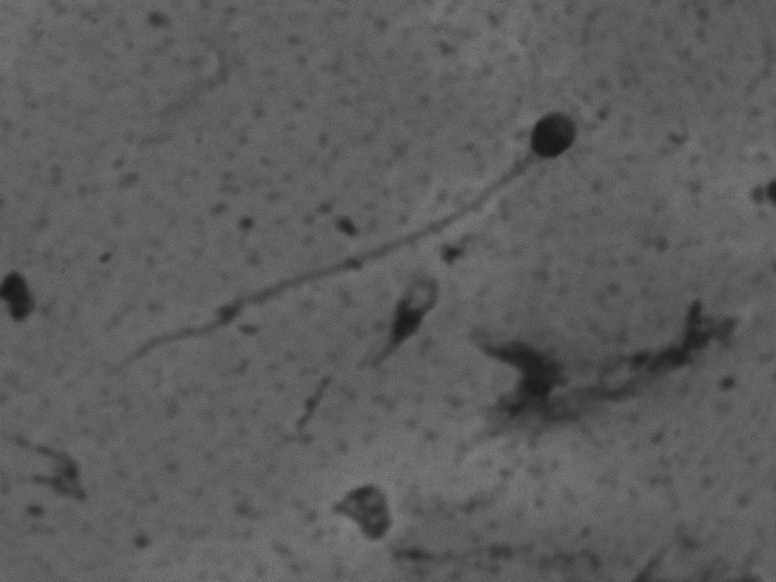Abnormal: (94, 98, 611, 387)
